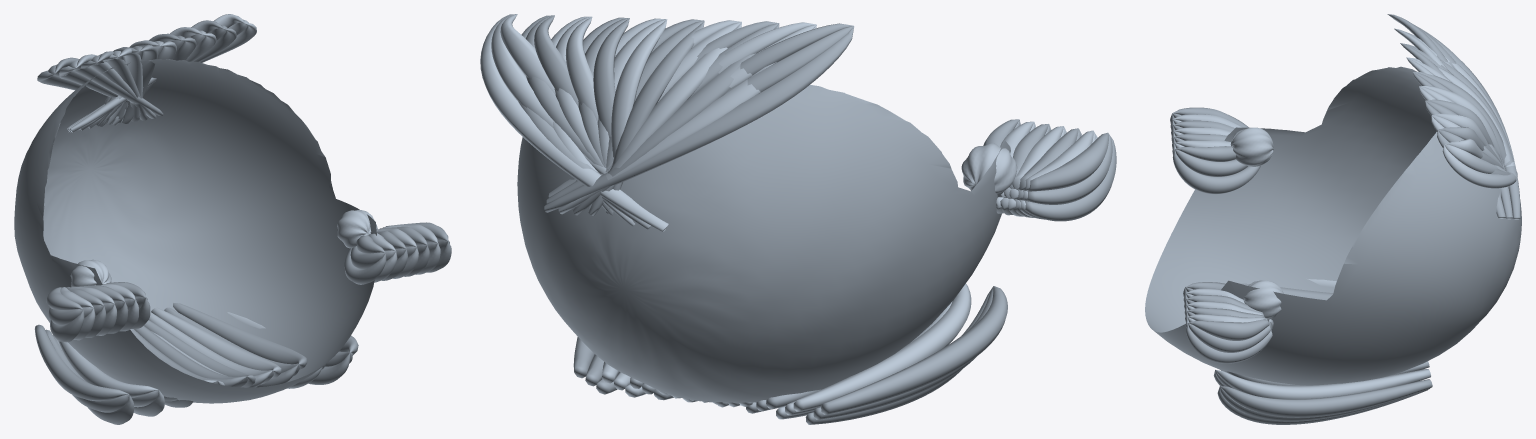
3 renders of one model, left to right at view 1: azimuth 30°, elevation 25°; view 2: azimuth 150°, elevation 25°; view 3: azimuth 270°, elevation 25°, orthographic. The views are drawn at different scales.
Visible parts, largest first — view 1: CrownHair_ref15, BackHair_06_Strand2, BackHair_00_Strand0, BackHair_05_Strand2, BackHair_01_Strand0, BackHair_04_Strand2, BackHair_04_Strand1, BackHair_05_Strand1, Hair_Tie_1, FrontHair_Sweep_00_Strand0, BackHair_00_Strand1, Hair_Tie_-1 (+19 smaller); view 2: CrownHair_ref15, FrontHair_Sweep_00_Strand2, BackHair_00_Strand0, FrontHair_Sweep_09_Strand0, BackHair_01_Strand0, FrontHair_Sweep_03_Strand2, FrontHair_Sweep_02_Strand2, FrontHair_Sweep_04_Strand2, FrontHair_Sweep_01_Strand2, FrontHair_Sweep_05_Strand2, FrontHair_Sweep_00_Strand1, FrontHair_Sweep_09_Strand1 (+27 smaller); view 3: CrownHair_ref15, BackHair_08_Strand2, BackHair_07_Strand2, SideHair_ShortTail_-1_06_Strand2, Hair_Tie_-1, SideHair_ShortTail_1_06_Strand2, SideHair_ShortTail_1_06_Strand0, Hair_Tie_1, FrontHair_Sweep_09_Strand0, SideHair_ShortTail_-1_06_Strand1, SideHair_ShortTail_1_06_Strand1, FrontHair_Sweep_00_Strand2 (+25 smaller).
Boxes of the visible parts, x1=… form: CrownHair_ref15: x1=14, y1=59, x2=376, y2=403; BackHair_06_Strand2: x1=173, y1=303, x2=307, y2=369; BackHair_00_Strand0: x1=34, y1=324, x2=128, y2=401; BackHair_05_Strand2: x1=151, y1=307, x2=281, y2=378; BackHair_01_Strand0: x1=58, y1=341, x2=158, y2=397; BackHair_04_Strand2: x1=144, y1=320, x2=255, y2=387; BackHair_04_Strand1: x1=134, y1=325, x2=247, y2=387; BackHair_05_Strand1: x1=149, y1=312, x2=274, y2=384; Hair_Tie_1: x1=337, y1=209, x2=377, y2=248; FrontHair_Sweep_00_Strand0: x1=55, y1=57, x2=163, y2=115; BackHair_00_Strand1: x1=45, y1=329, x2=129, y2=412; Hair_Tie_-1: x1=70, y1=259, x2=111, y2=286; CrownHair_ref15: x1=517, y1=85, x2=1010, y2=402; FrontHair_Sweep_00_Strand2: x1=544, y1=26, x2=854, y2=212; BackHair_00_Strand0: x1=821, y1=286, x2=1007, y2=414; FrontHair_Sweep_09_Strand0: x1=480, y1=14, x2=668, y2=231; BackHair_01_Strand0: x1=793, y1=283, x2=971, y2=411; FrontHair_Sweep_03_Strand2: x1=588, y1=22, x2=741, y2=215; FrontHair_Sweep_02_Strand2: x1=573, y1=23, x2=779, y2=215; FrontHair_Sweep_04_Strand2: x1=606, y1=21, x2=704, y2=213; FrontHair_Sweep_01_Strand2: x1=558, y1=25, x2=816, y2=214; FrontHair_Sweep_05_Strand2: x1=611, y1=19, x2=667, y2=157; FrontHair_Sweep_00_Strand1: x1=546, y1=26, x2=853, y2=203; FrontHair_Sweep_09_Strand1: x1=491, y1=14, x2=606, y2=174; CrownHair_ref15: x1=1145, y1=66, x2=1521, y2=385; BackHair_08_Strand2: x1=1220, y1=379, x2=1432, y2=417; BackHair_07_Strand2: x1=1215, y1=369, x2=1430, y2=399; SideHair_ShortTail_-1_06_Strand2: x1=1172, y1=150, x2=1260, y2=194; Hair_Tie_-1: x1=1230, y1=127, x2=1273, y2=166; SideHair_ShortTail_1_06_Strand2: x1=1188, y1=319, x2=1269, y2=340; SideHair_ShortTail_1_06_Strand0: x1=1186, y1=323, x2=1272, y2=363; Hair_Tie_1: x1=1243, y1=280, x2=1283, y2=318; FrontHair_Sweep_09_Strand0: x1=1442, y1=144, x2=1517, y2=188; SideHair_ShortTail_-1_06_Strand1: x1=1175, y1=149, x2=1247, y2=176; SideHair_ShortTail_1_06_Strand1: x1=1188, y1=323, x2=1270, y2=352; FrontHair_Sweep_00_Strand2: x1=1394, y1=19, x2=1520, y2=219.
Size of the model in its own units: 0.7924 by 0.6096 by 0.6529.
